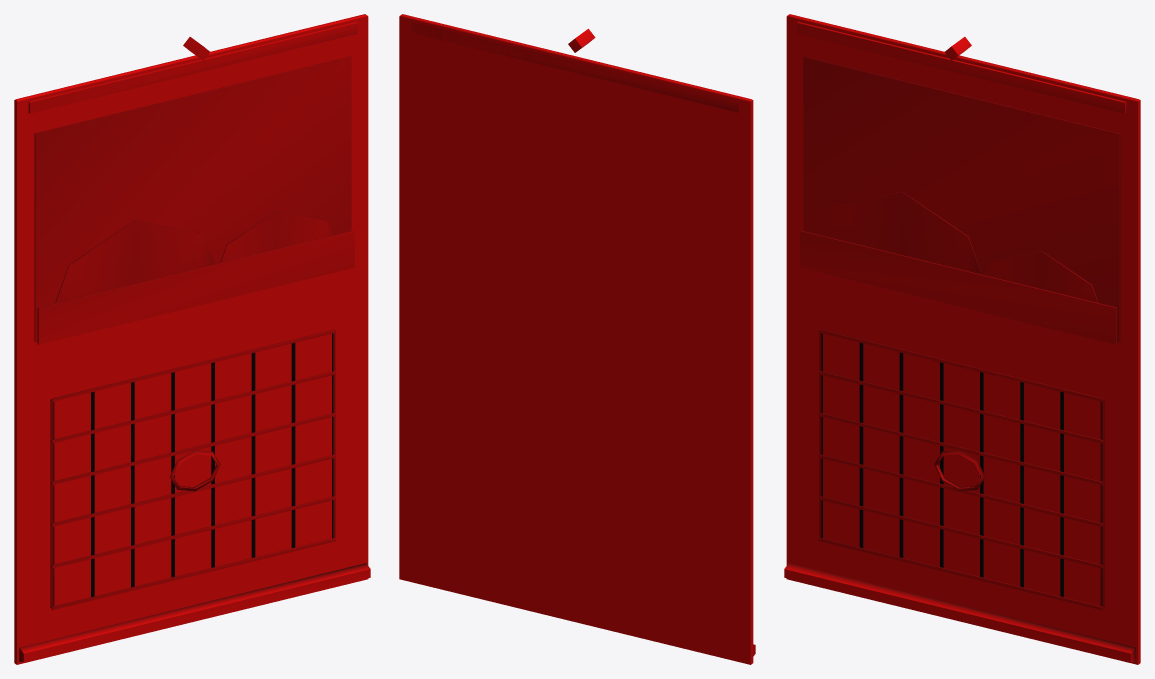
The model's file is CI_Office_Calendar_Wall.glb.
3 renders of one model, left to right at view 1: azimuth 30°, elevation 25°; view 2: azimuth 150°, elevation 25°; view 3: azimuth 330°, elevation 25°, orthographic.
Visible parts, largest first — view 1: CI_Office_Calendar_Wall; view 2: CI_Office_Calendar_Wall; view 3: CI_Office_Calendar_Wall.
Boxes of the visible parts, bbox=[...] form: CI_Office_Calendar_Wall: bbox=[14, 14, 370, 664]; CI_Office_Calendar_Wall: bbox=[399, 14, 755, 664]; CI_Office_Calendar_Wall: bbox=[784, 14, 1140, 664].
Size of the model in its own units: 0.3 by 0.476 by 0.02.
